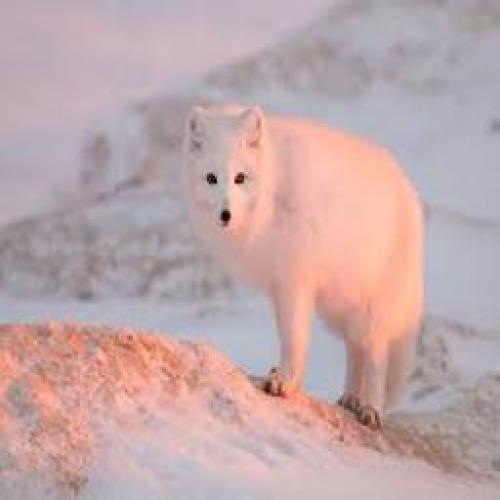arctic_fox-endangered: (185, 106, 427, 425)
